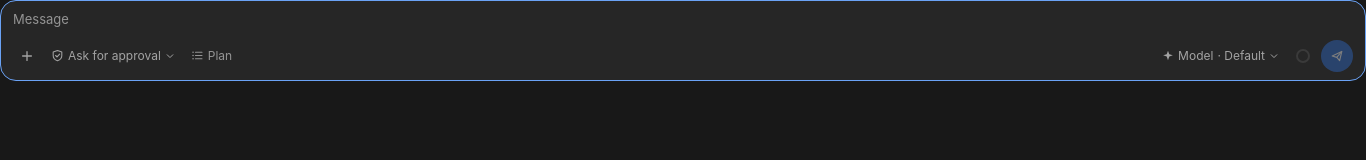
Test case: InputArea unified / dropdown › Enter on a dropdown row inserts the name without sending
Type "/" into the text box named "Chat input" at coordinates (683, 20), box left=13, top=9, right=1353, bottom=30
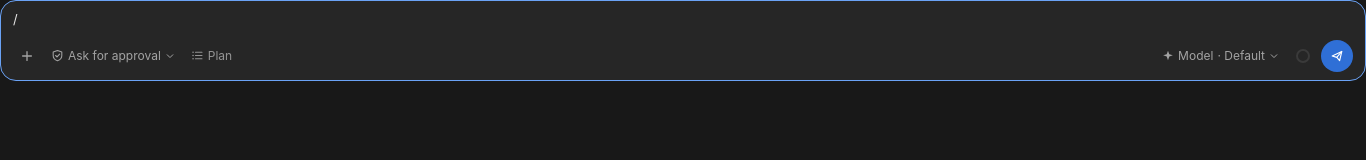
Press Enter in the text box named "Chat input", box left=13, top=9, right=1353, bottom=30
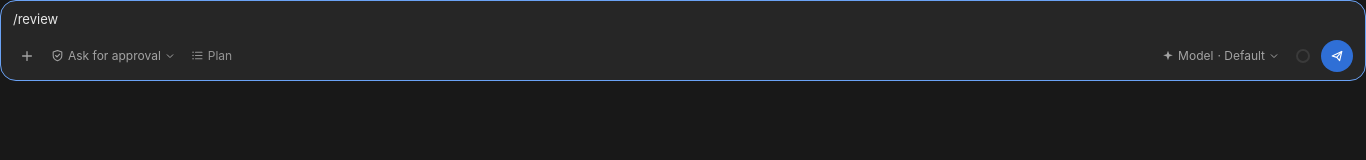
Now the text box named "Chat input" holds "/review ", box left=13, top=9, right=1353, bottom=30
